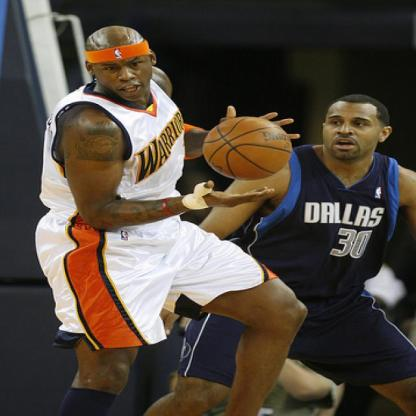basketball: (202, 116, 294, 180)
